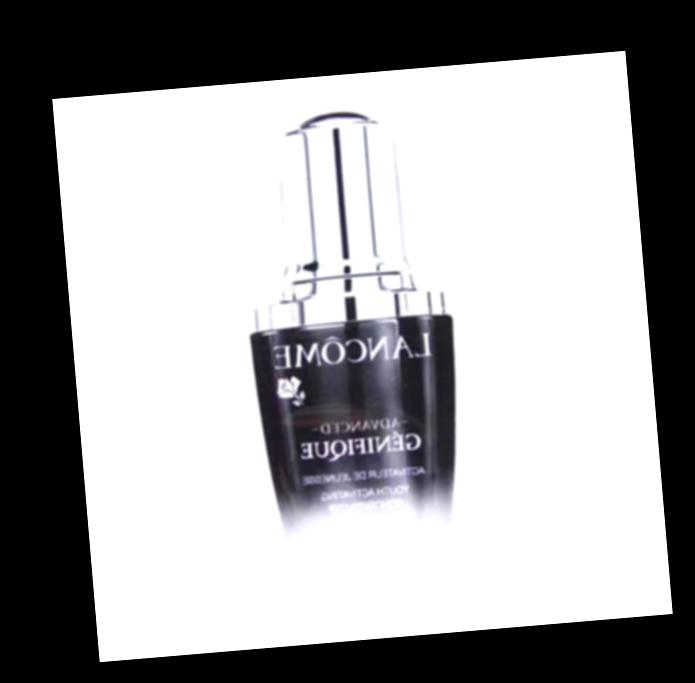cosmetic: (229, 101, 475, 614)
